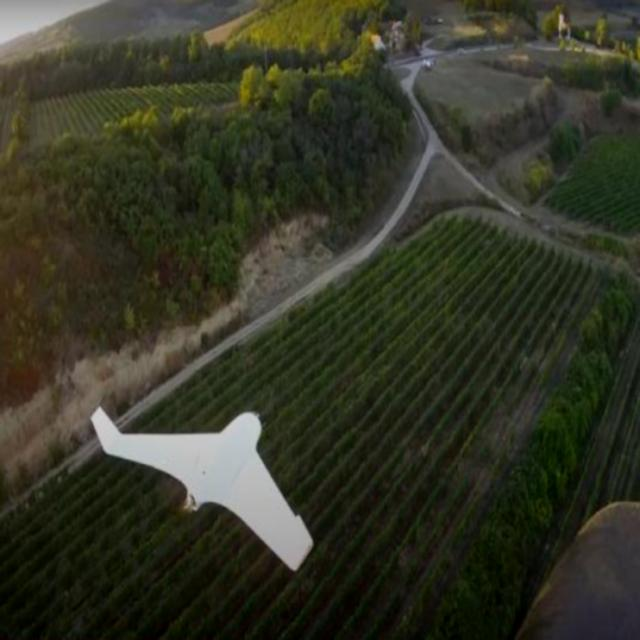plane: (90, 403, 316, 572)
